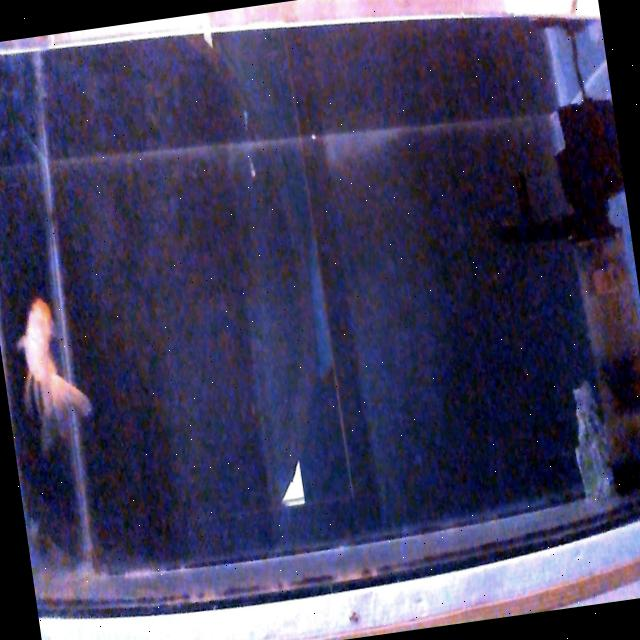fish: (10, 291, 96, 440)
